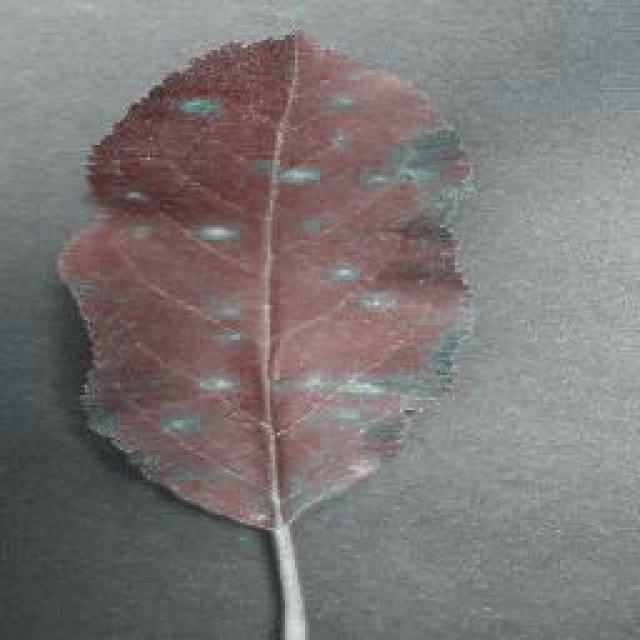apple rust disease: (55, 27, 477, 535)
